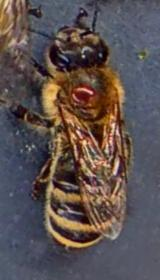varroa_mite: (60, 77, 105, 108)
